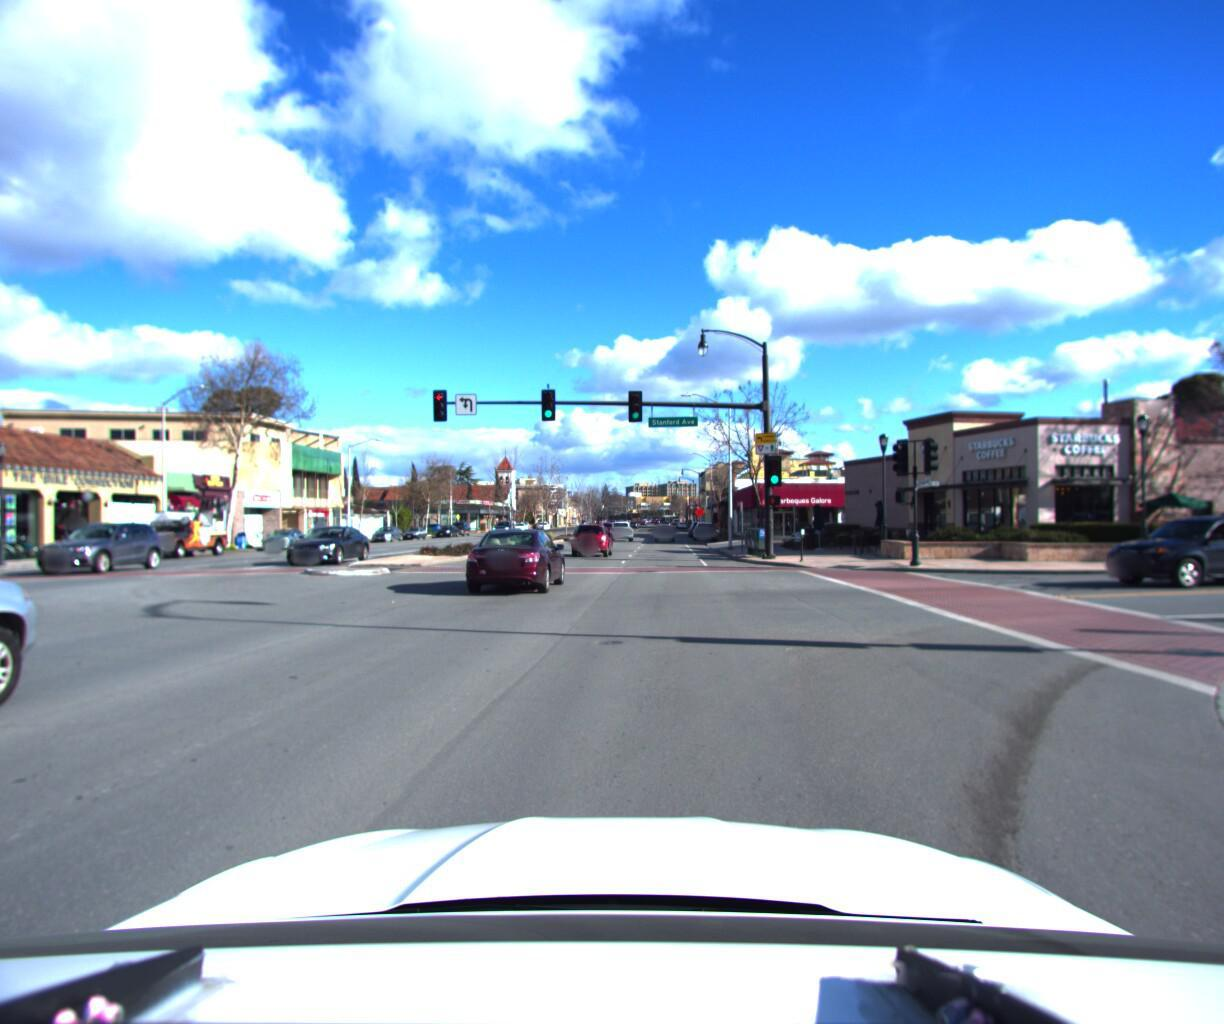car: (0, 435, 85, 901), (1084, 508, 1224, 589), (466, 523, 572, 601), (27, 520, 174, 576), (136, 501, 237, 560), (280, 524, 380, 566), (573, 524, 618, 560), (264, 527, 313, 552), (373, 526, 407, 543), (612, 522, 636, 541), (693, 521, 716, 541), (657, 522, 678, 542)
